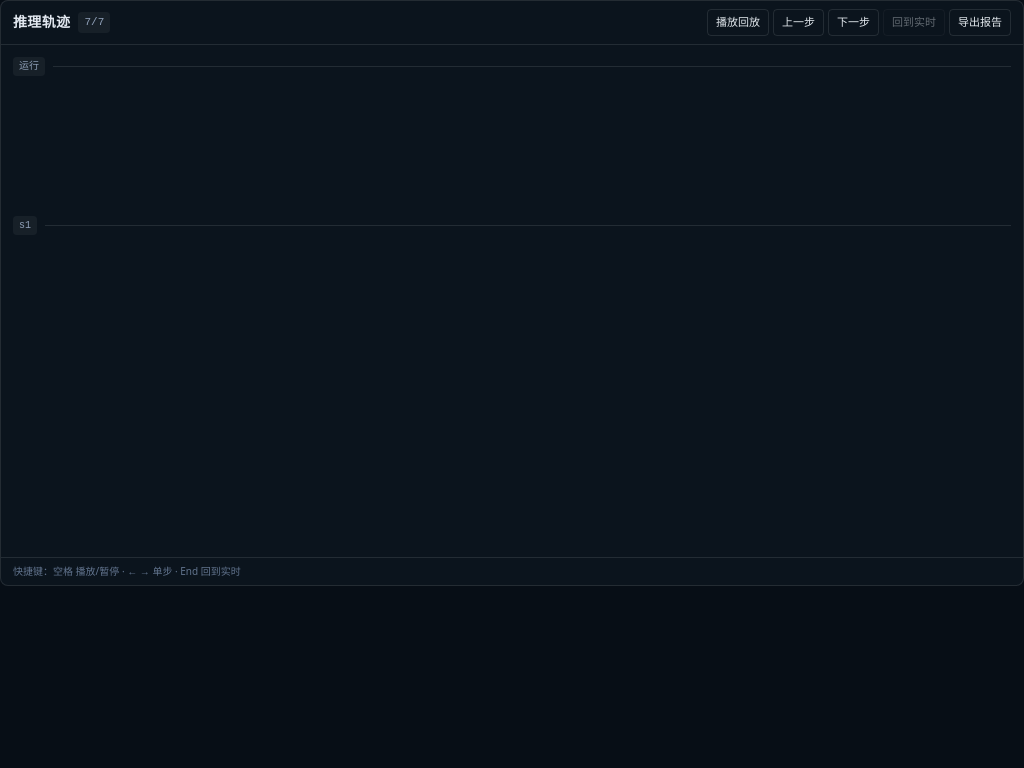
Test: AgentTrace › marks the view as replaying and can return to live
This screenshot has width=1024, height=768.
Click the button "上一步".
click(798, 22)  # box [773, 9, 824, 36]
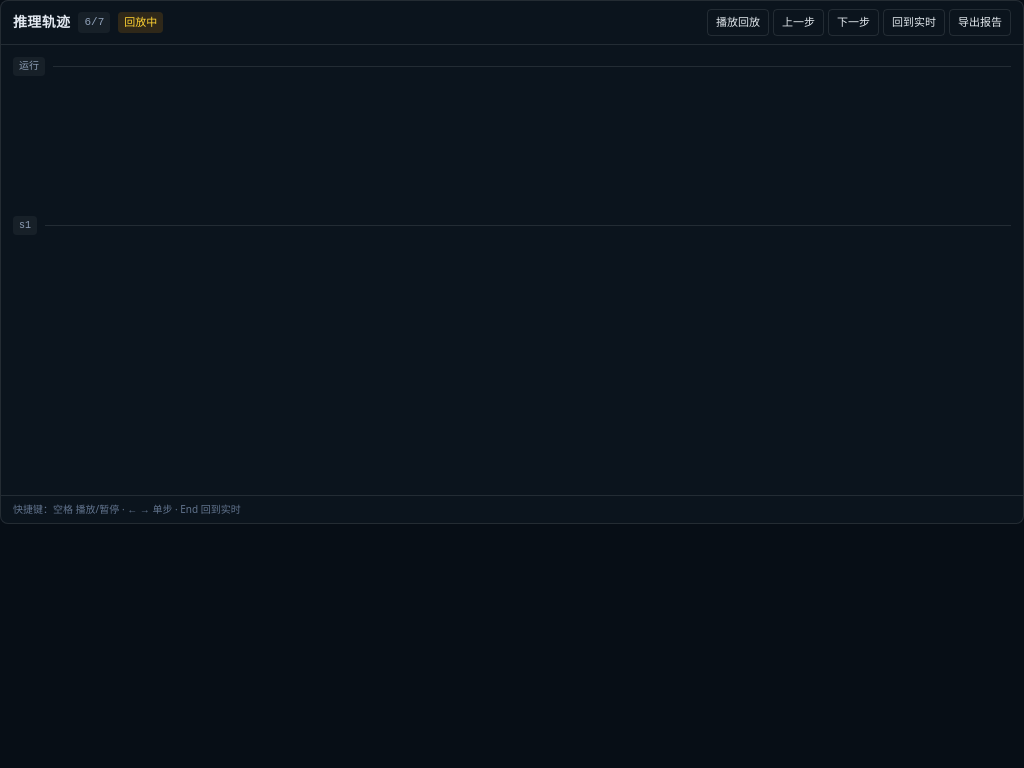
Check: the text "回放中" is shown, box [118, 12, 163, 32]
Click the button "回到实时".
click(914, 22)  # box [883, 9, 945, 36]
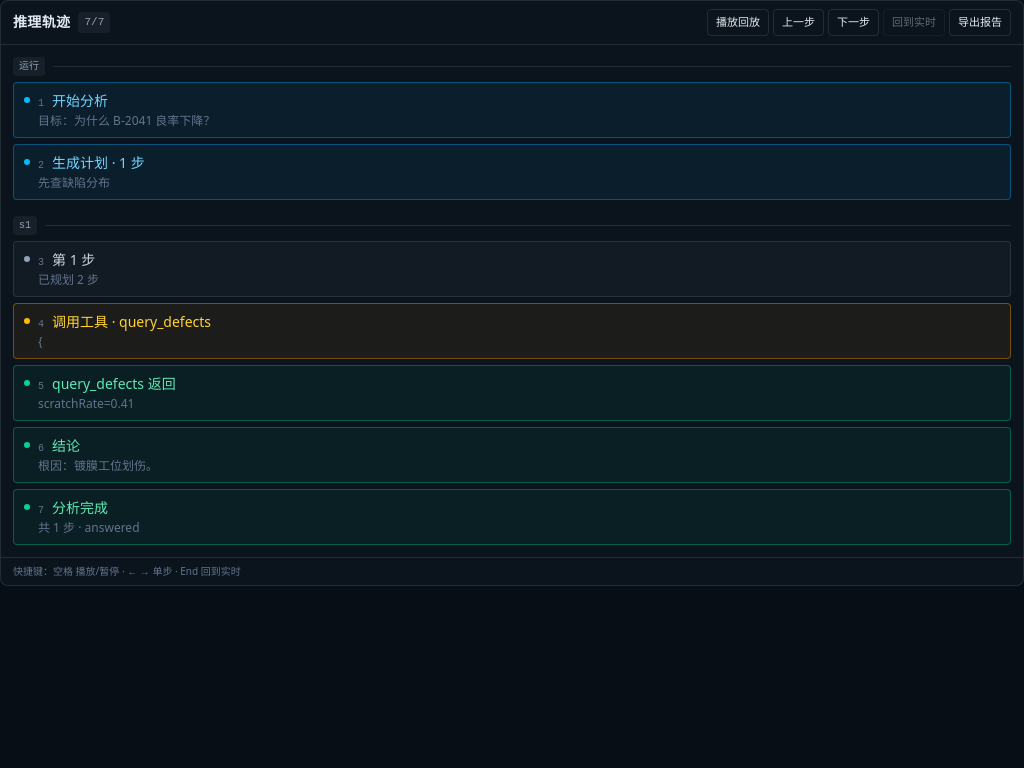
Check: the text "回放中" is gone
Check: the number of list items with test id "trace-entry" is 7
